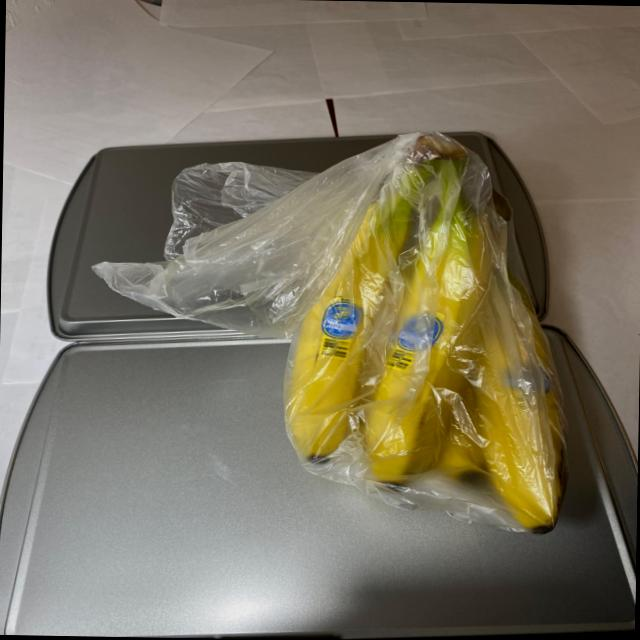banana: (262, 128, 578, 532)
